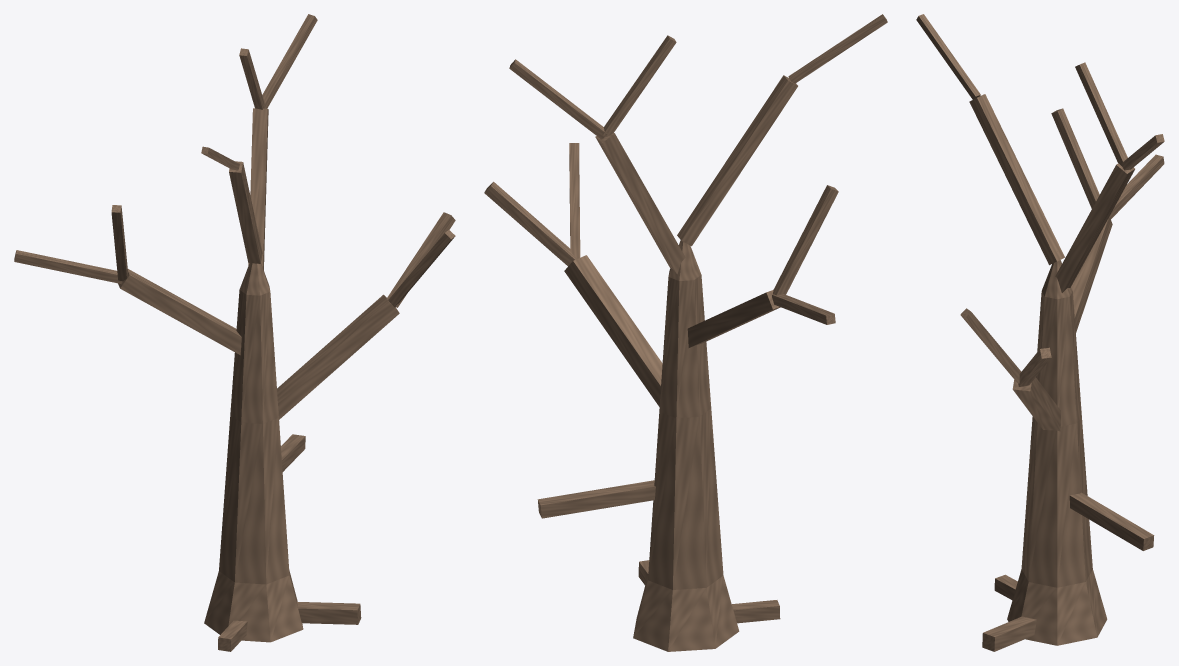
The picture shows the model from 3 angles, left to right: view 1: azimuth 30°, elevation 25°; view 2: azimuth 150°, elevation 25°; view 3: azimuth 270°, elevation 25°; orthographic projection. The views are drawn at different scales.
Visible parts, largest first — view 1: dead-tree; view 2: dead-tree; view 3: dead-tree.
Part boxes in pixels (bbox=[...]): dead-tree: bbox=[14, 14, 455, 651]; dead-tree: bbox=[484, 14, 887, 651]; dead-tree: bbox=[916, 14, 1164, 651].
Size of the model in its own units: 3.87 by 5.42 by 2.17.
Materials: 1 (1 with a texture image).
